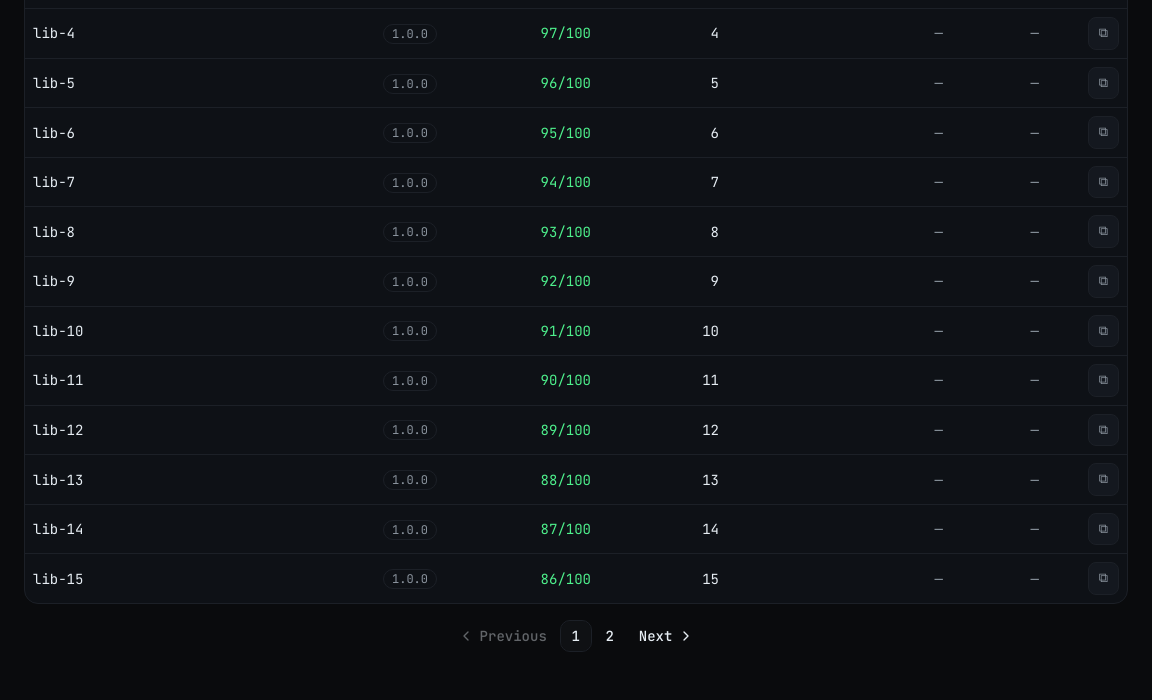
CatalogSection — pagination (15 per page) › changes page without following the link, so the table never jumps
This screenshot has width=1152, height=700.
(page scrolled)
Click the link named "Go to page 2" at (610, 636), box left=606, top=627, right=614, bottom=645
(page scrolled)
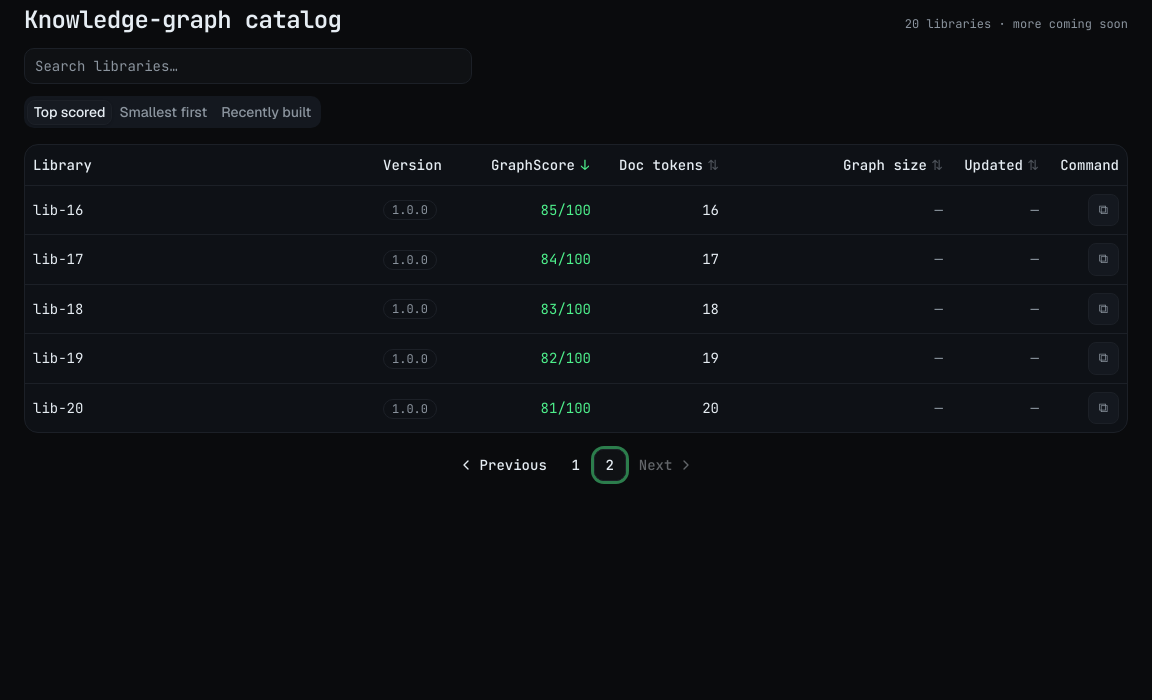
Check: the text "lib-16" is shown, box left=33, top=201, right=83, bottom=219
